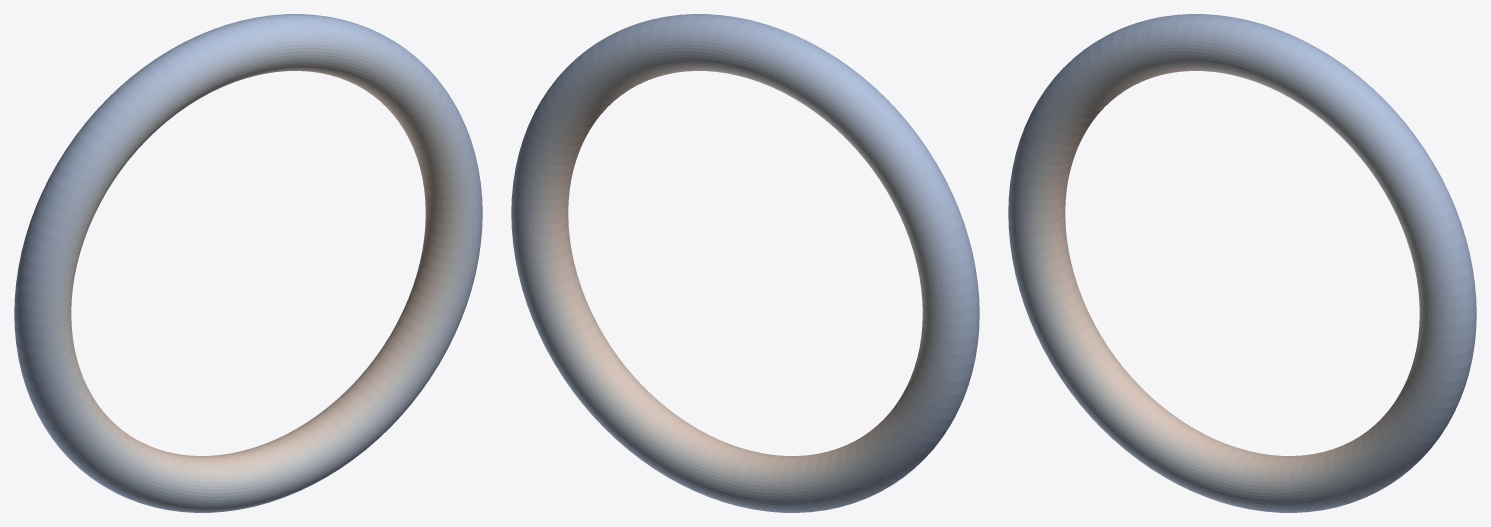
3 renders of one model, left to right at view 1: azimuth 30°, elevation 25°; view 2: azimuth 150°, elevation 25°; view 3: azimuth 330°, elevation 25°, orthographic.
Visible parts, largest first — view 1: world; view 2: world; view 3: world.
Part boxes in pixels (left/top/right/bottom): world: left=14, top=14, right=482, bottom=512; world: left=511, top=14, right=979, bottom=512; world: left=1008, top=14, right=1476, bottom=512.
Size of the model in its own units: 33.6 by 33.6 by 3.59.
